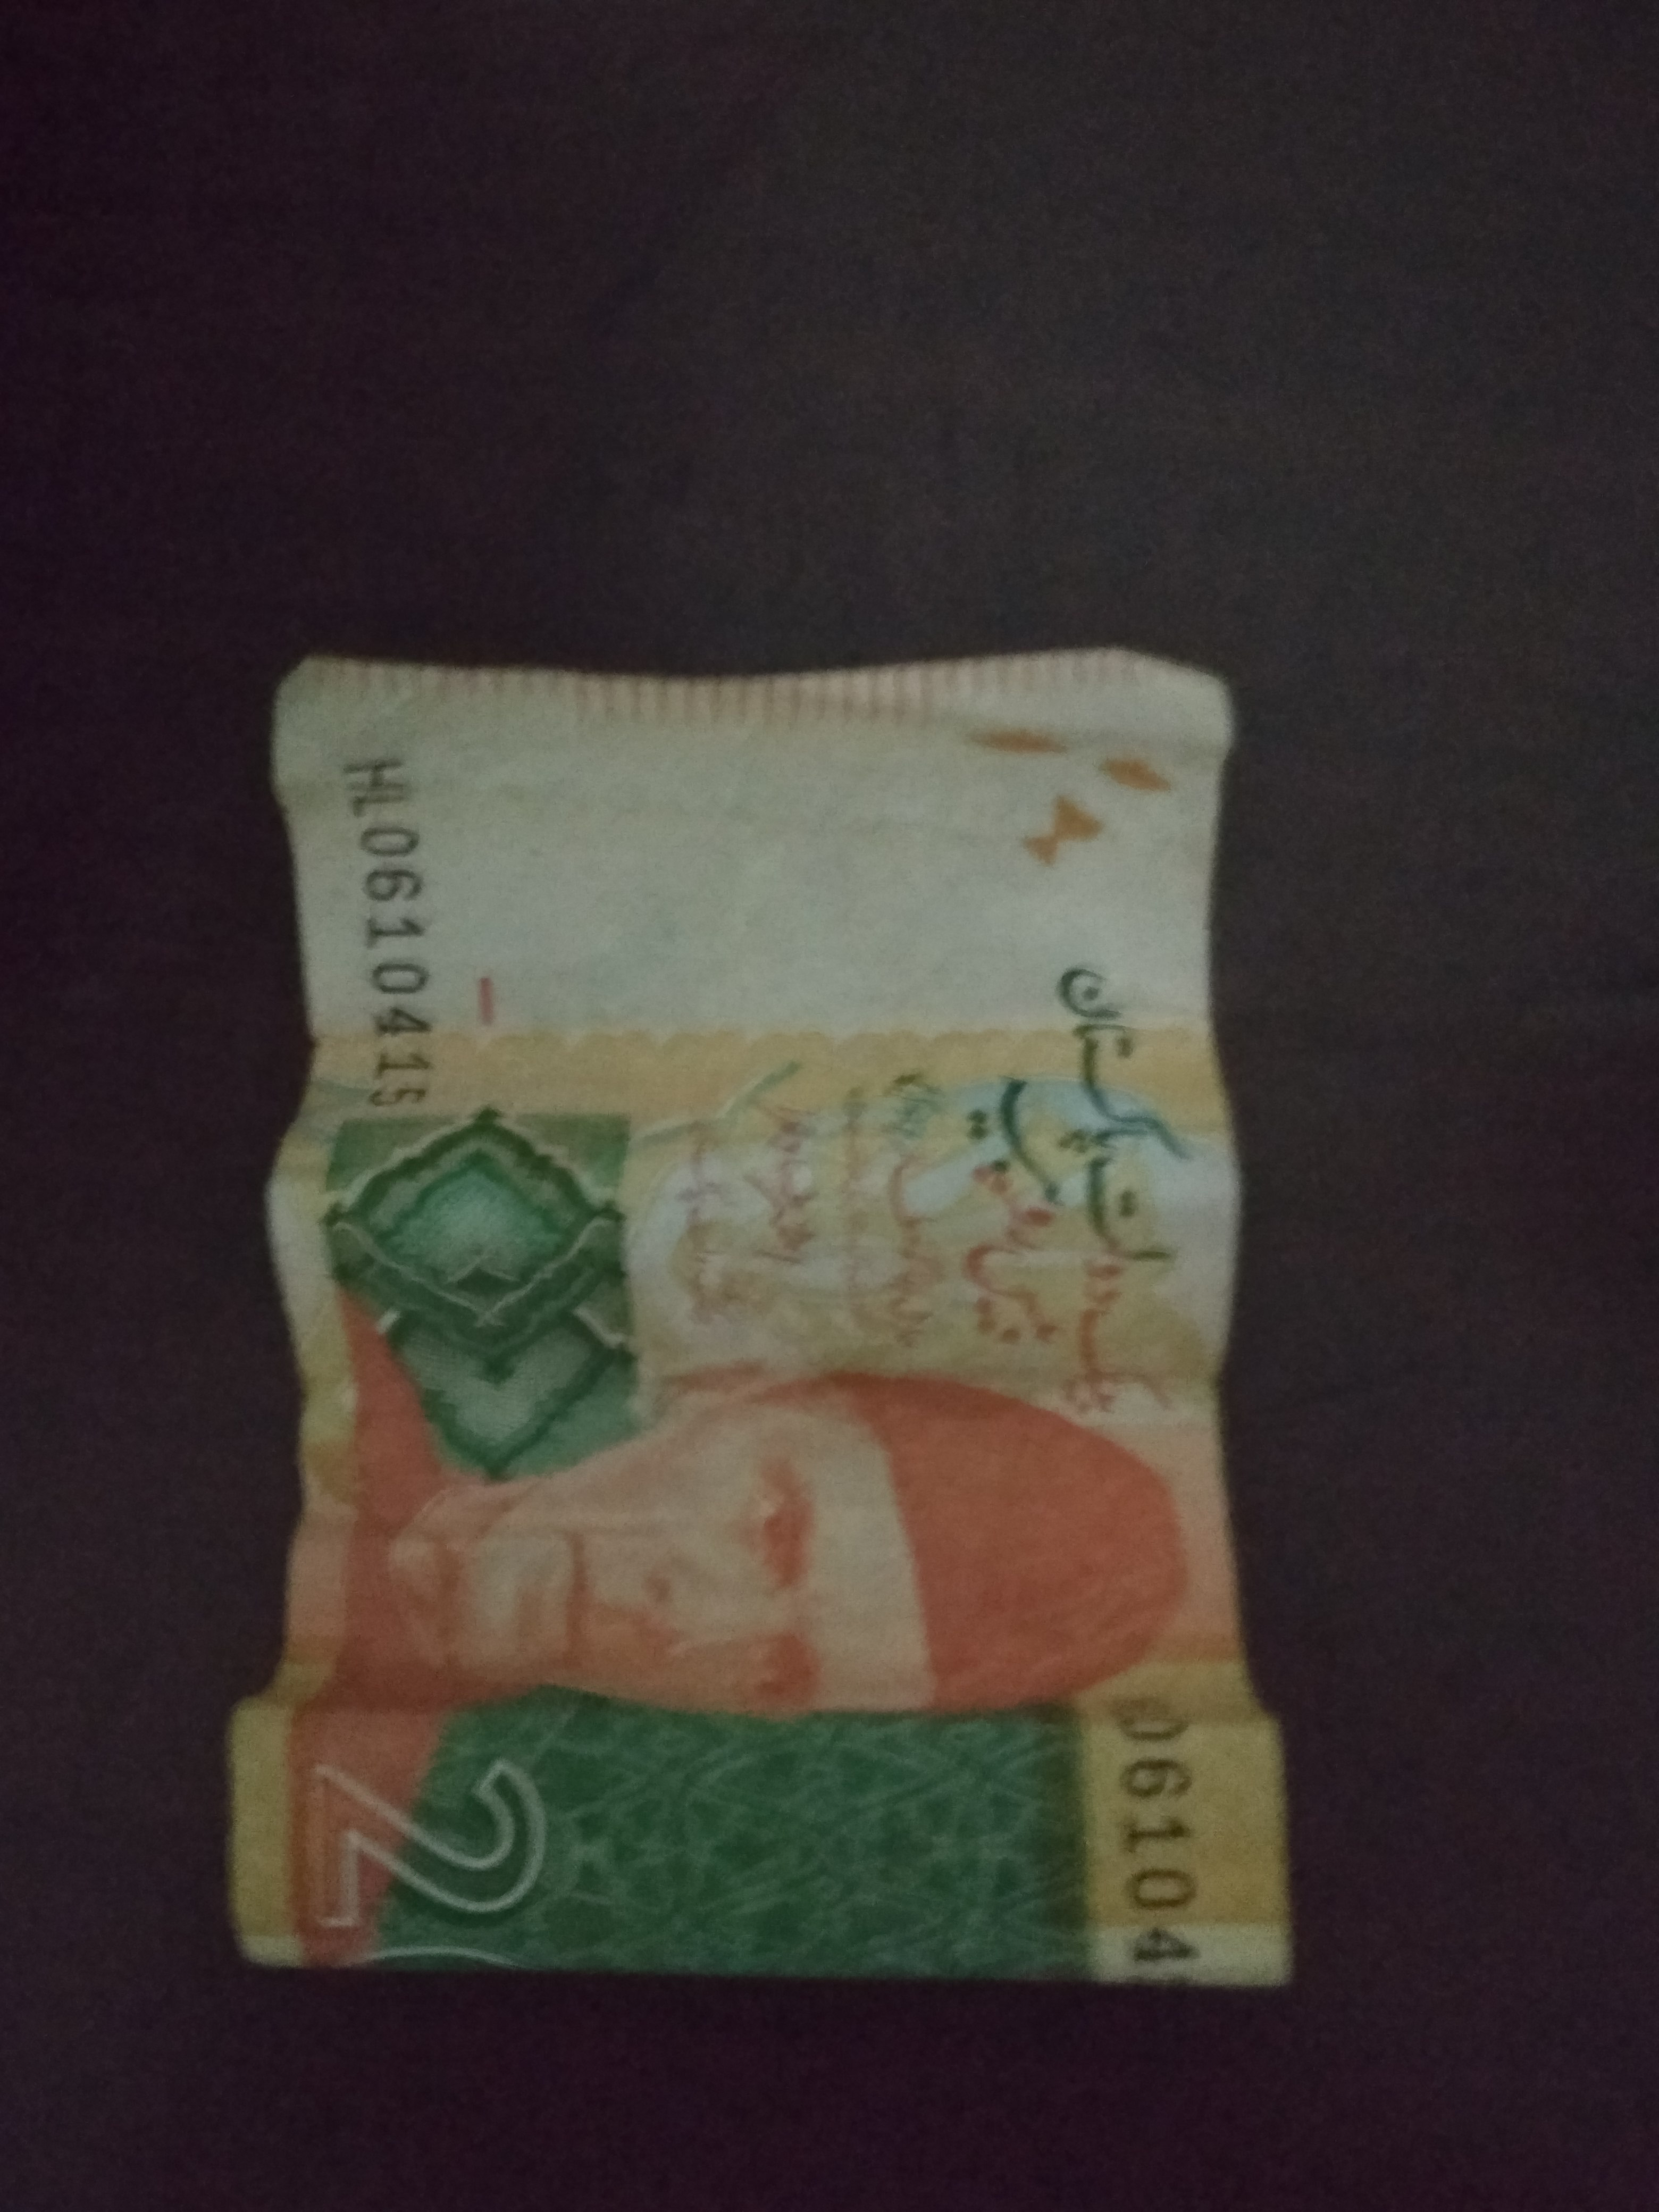20 rupee: (193, 578, 1455, 2212)
